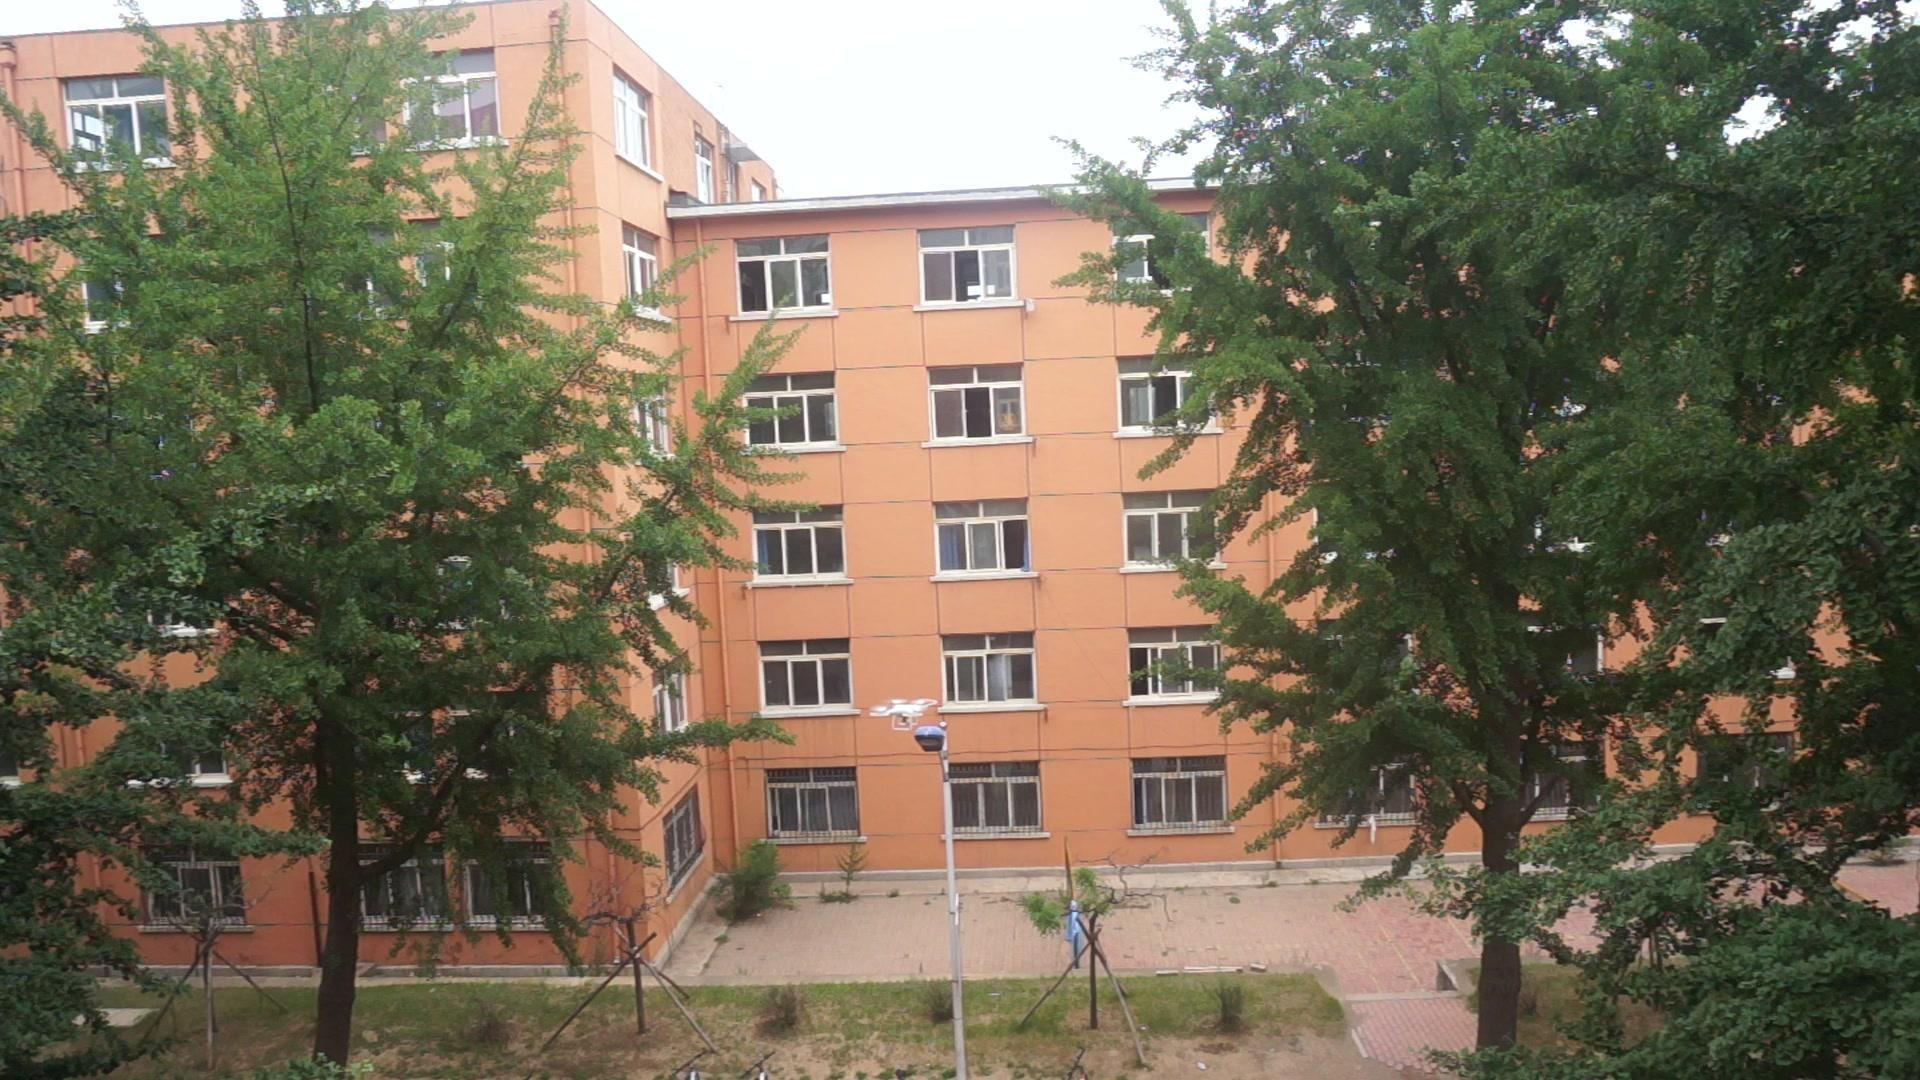UAV: (870, 698, 939, 732)
